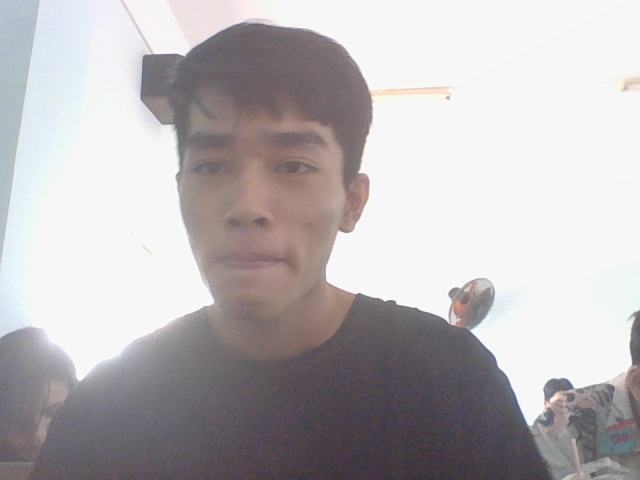real: (149, 0, 389, 340)
